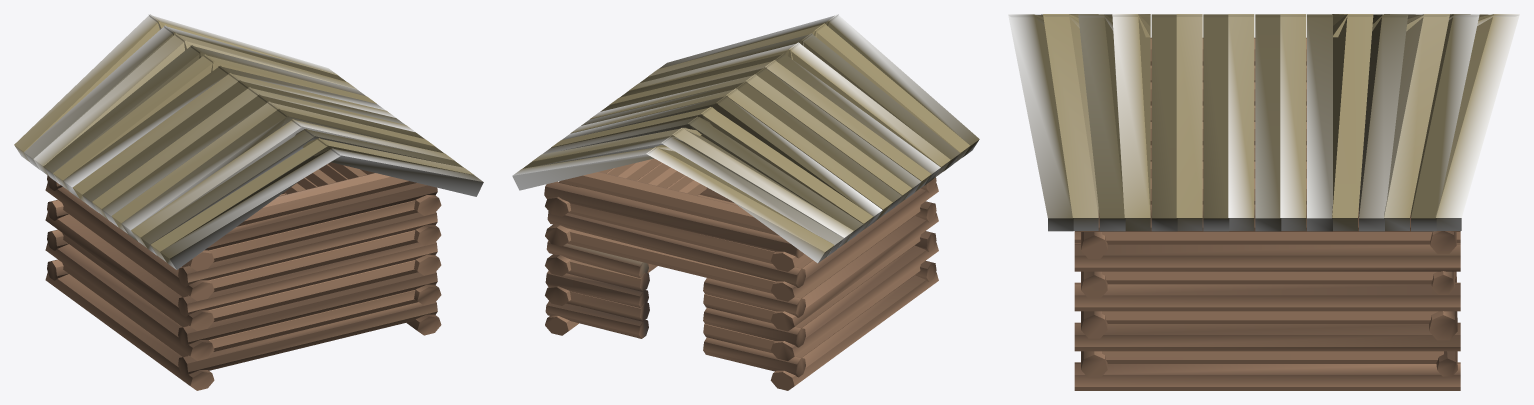
Rendered from LogCabin.fbx.
3 views of the same model, side by side, from view 1: azimuth 30°, elevation 25°; view 2: azimuth 150°, elevation 25°; view 3: azimuth 270°, elevation 25° (orthographic). The views are drawn at different scales.
Visible parts, largest first — view 1: Cylinder.002, Cube, Cube.001; view 2: Cylinder.002, Cube.001, Cube; view 3: Cylinder.002, Cube.001, Cube.
Part boxes in pixels (x1=…): Cylinder.002: x1=45, y1=162, x2=441, y2=390; Cube: x1=24, y1=25, x2=483, y2=269; Cube.001: x1=14, y1=14, x2=473, y2=262; Cylinder.002: x1=544, y1=158, x2=938, y2=390; Cube.001: x1=512, y1=23, x2=969, y2=263; Cube: x1=523, y1=14, x2=979, y2=256; Cylinder.002: x1=1074, y1=37, x2=1460, y2=390; Cube.001: x1=1043, y1=14, x2=1519, y2=230; Cube: x1=1008, y1=14, x2=1479, y2=231.
Bounding box in the file's own units: 3528 × 2415 × 3738.
